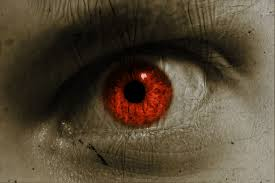e.other: (105, 58, 172, 125)
